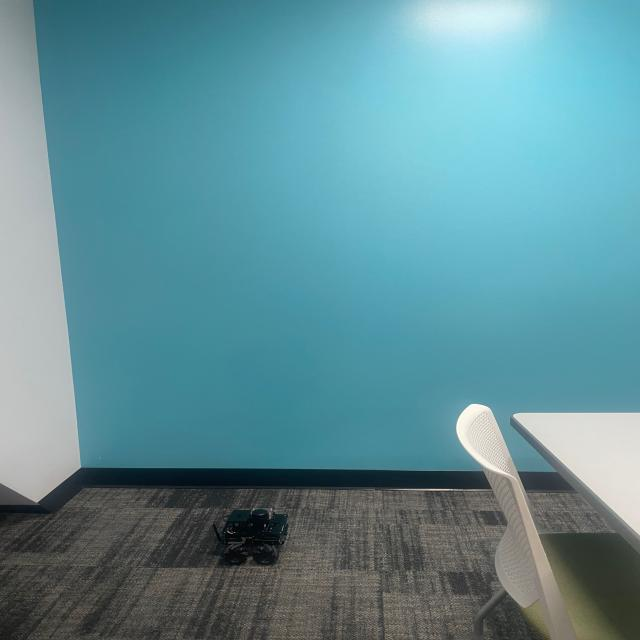ArduinoCar3: (207, 502, 294, 564)
